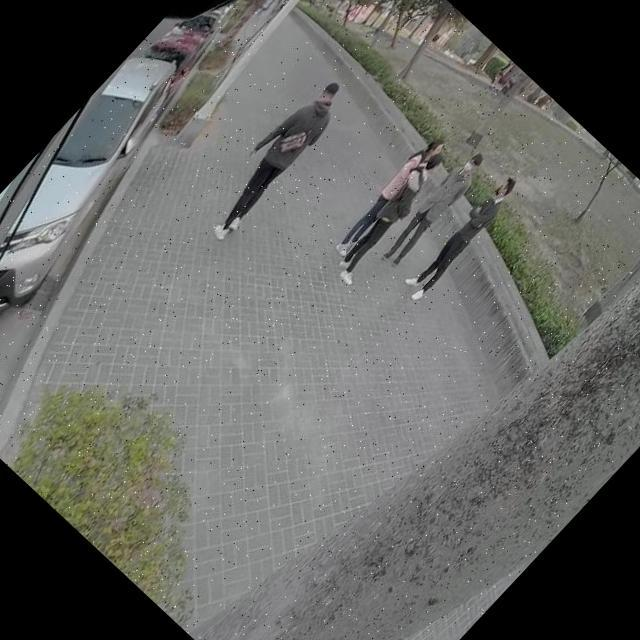person: (188, 66, 362, 247), (318, 138, 468, 294), (320, 124, 454, 266), (402, 172, 526, 303), (376, 146, 494, 270)
